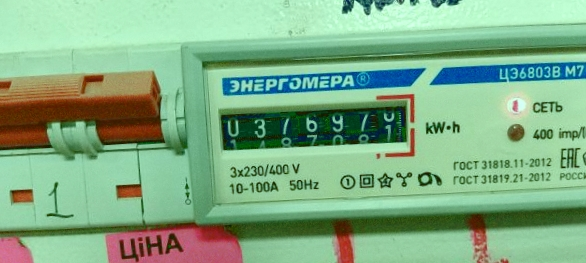0: (223, 114, 239, 137)
1: (381, 122, 393, 142)
3: (251, 116, 267, 138)
6: (302, 109, 318, 133)
7: (276, 112, 293, 137), (354, 108, 371, 132)
9: (328, 109, 343, 132)
screen: (208, 82, 421, 172)
